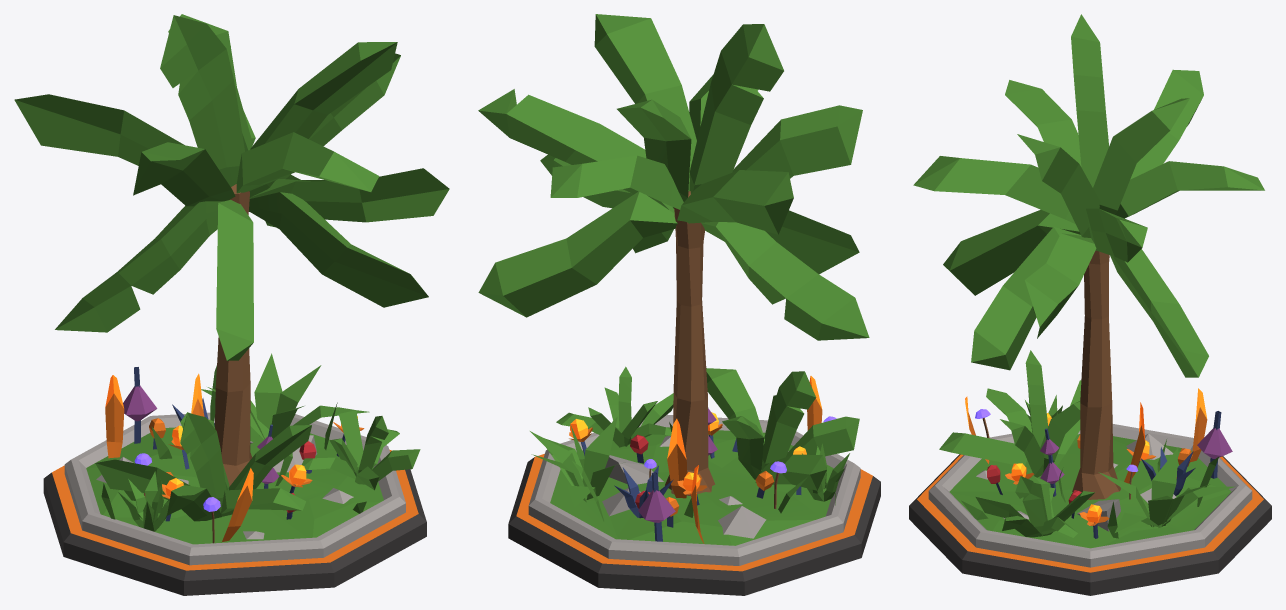
Rendered from scifi_scifi-pot-low-palm.fbx.
3 renders of one model, left to right at view 1: azimuth 30°, elevation 25°; view 2: azimuth 150°, elevation 25°; view 3: azimuth 270°, elevation 25°, orthographic. The views are drawn at different scales.
Parts seen in each view (by area): view 1: scifi_scifi_pot_low_palm; view 2: scifi_scifi_pot_low_palm; view 3: scifi_scifi_pot_low_palm.
Part boxes in pixels (left/top/right/bottom): scifi_scifi_pot_low_palm: left=14, top=14, right=449, bottom=595; scifi_scifi_pot_low_palm: left=478, top=14, right=880, bottom=595; scifi_scifi_pot_low_palm: left=909, top=14, right=1271, bottom=595.
Size of the model in its own units: 151 by 200 by 138.
